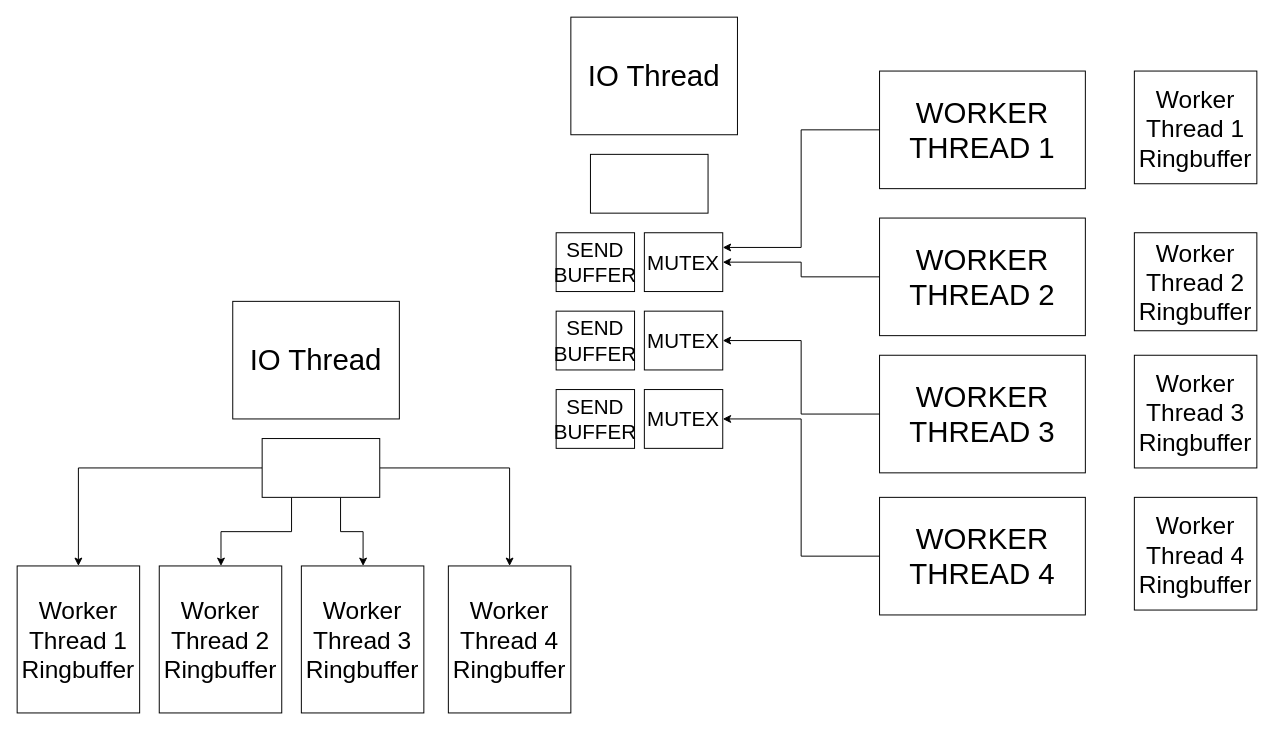
Some shapes in this 1274 by 730 pixel diagram are drawn without their labels. Here are the shapes that lost their labels. From the top down, the centre of each, then its label:
At (648,183): "liburing wait send".
At (320,467): "liburing wait recv".
